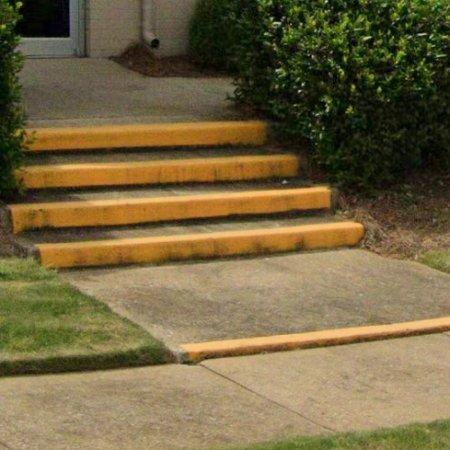stairs: (0, 120, 365, 269)
